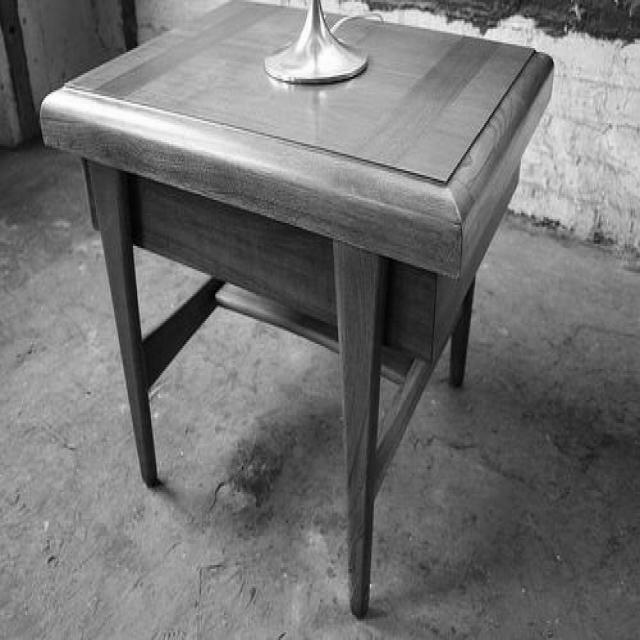table: (42, 2, 555, 620)
